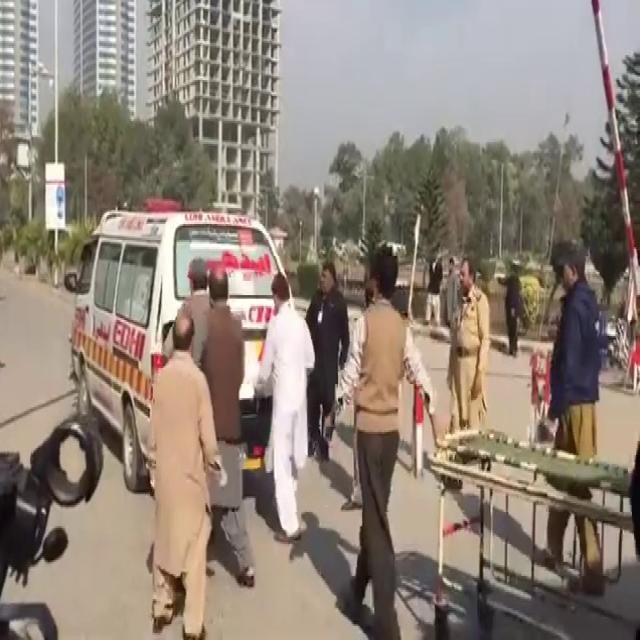ambulance: (71, 212, 300, 438)
